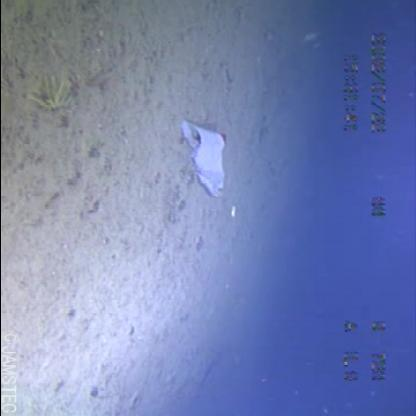Rác: (176, 112, 232, 212)
